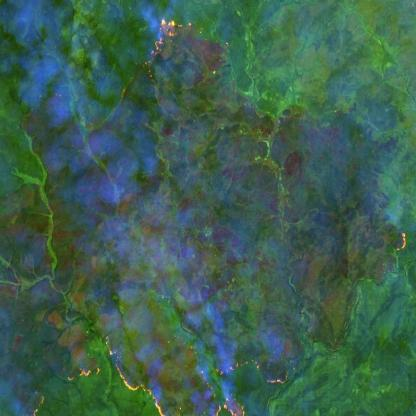fire: (31, 334, 289, 416), (137, 13, 196, 66), (391, 227, 409, 255)
